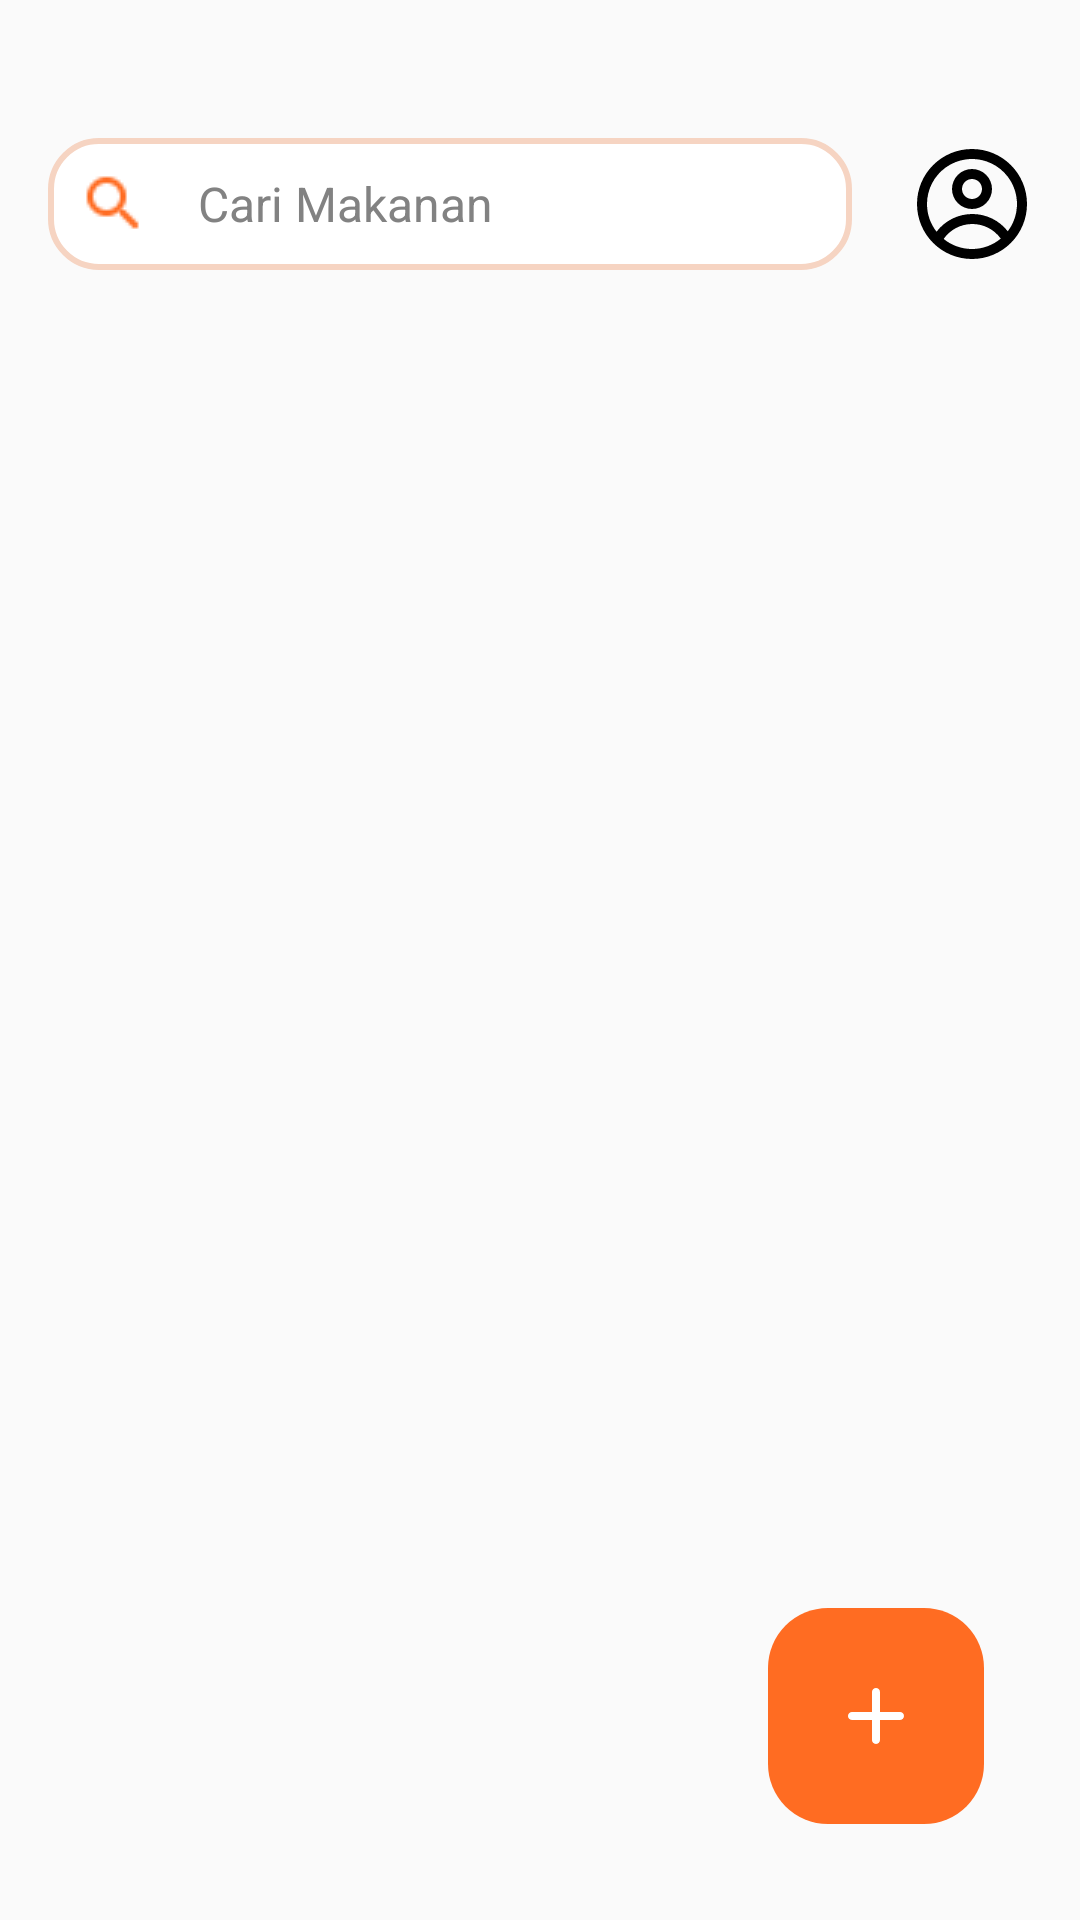

Screen size 1080 x 1920. Icon name, then its center in pixels as (x=x, y=y):
plus: (x=876, y=1716)
